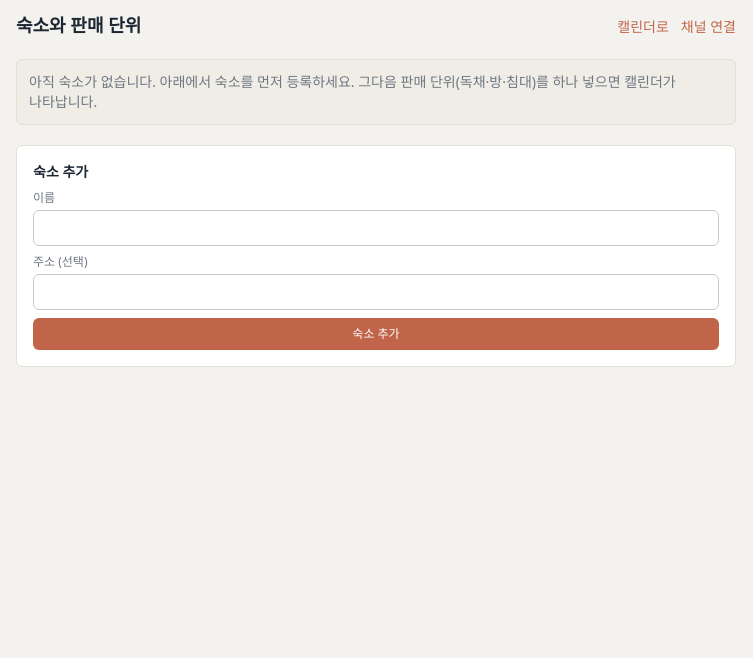
Test: 숙소·판매 단위 화면 › 숙소가 없으면 안내를 보여 주고, 추가하면 목록에 생긴다
This screenshot has width=753, height=658.
expect the text with test id "properties-empty" shows "숙소를 먼저 등록": met, box top-left (29, 72), bottom-right (676, 111)
Type "새 숙소" into the field named "숙소 이름". click: (376, 228)
box: top-left (33, 210), bottom-right (719, 246)
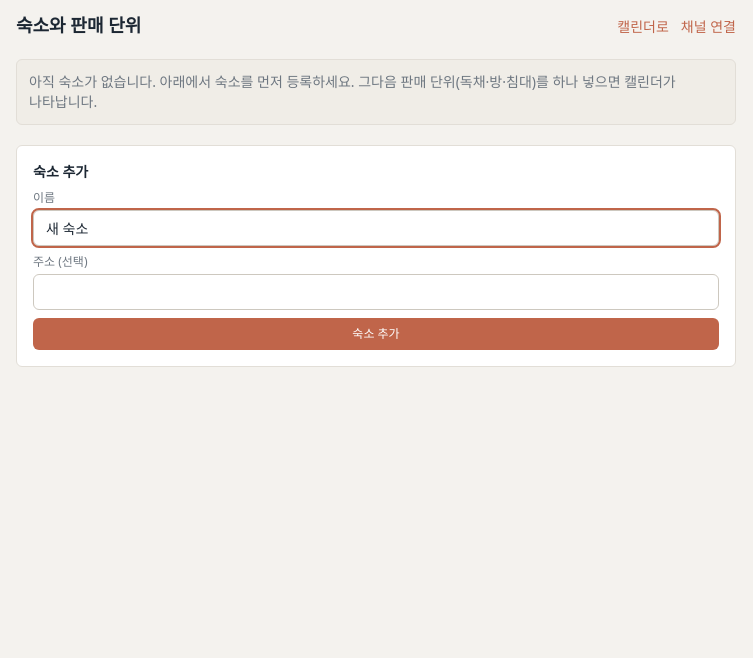
Click the button "숙소 추가". click: (376, 334)
box: top-left (33, 318), bottom-right (719, 350)
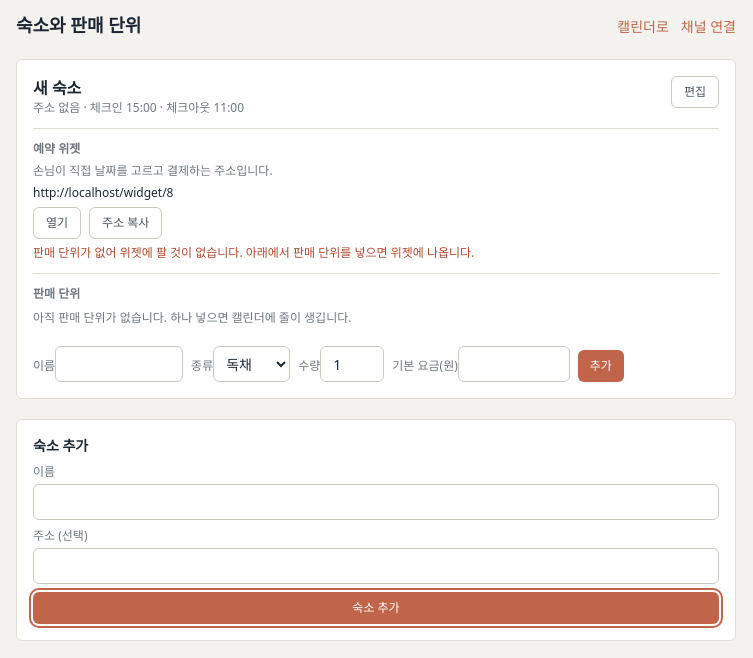
expect the element named "숙소 새 숙소" is shown: met, box top-left (16, 59), bottom-right (736, 399)
expect the text with test id "properties-empty" is gone: met
